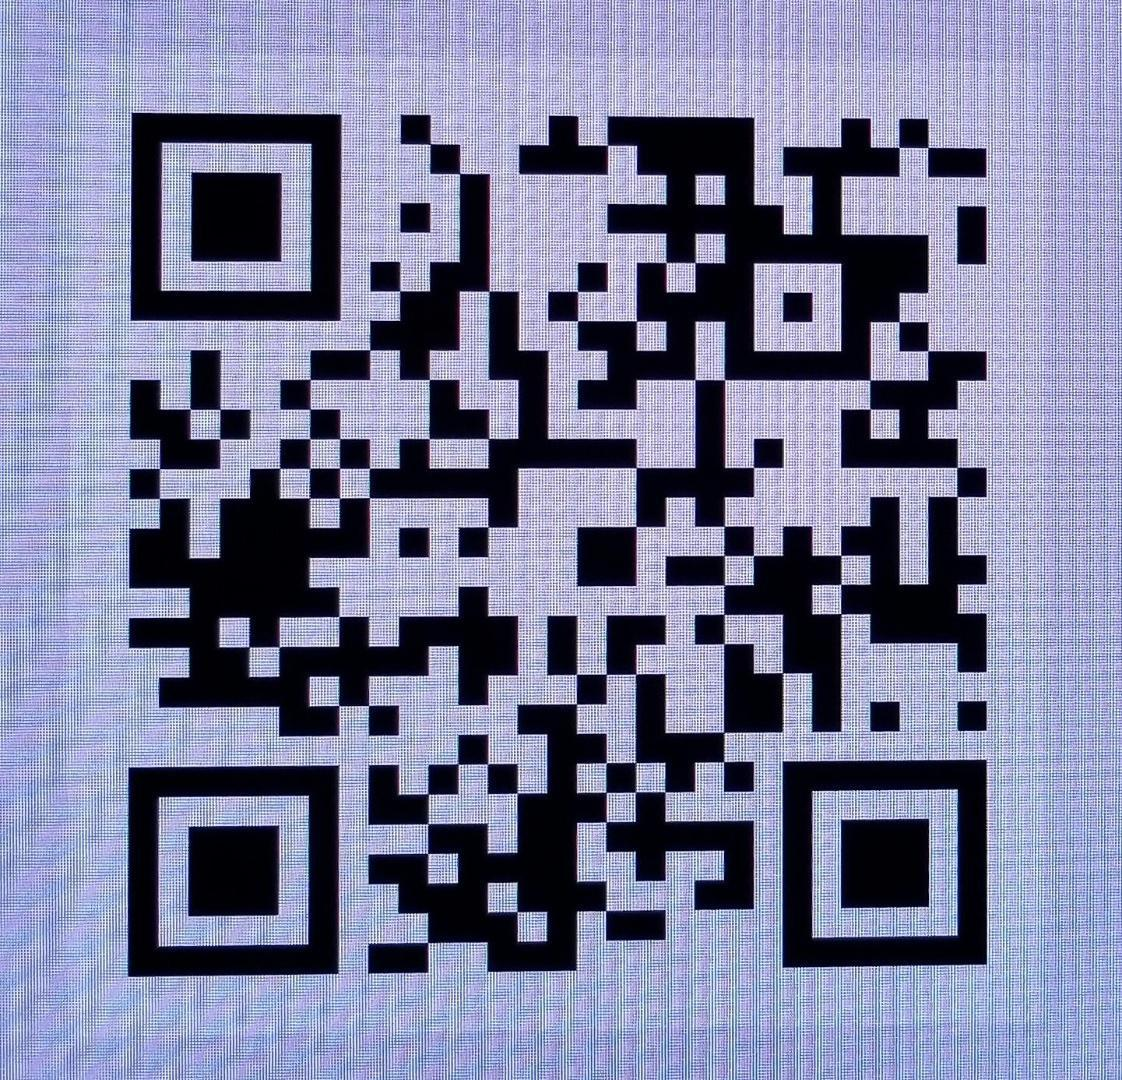Finder pattern: (117, 103, 356, 332), (115, 755, 348, 986), (767, 747, 995, 973)
